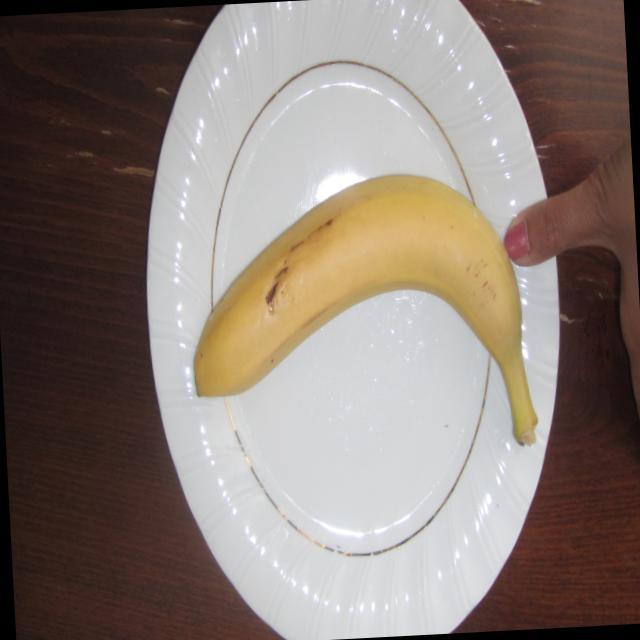Banana: (178, 161, 545, 474)
Finger: (498, 182, 568, 278)
